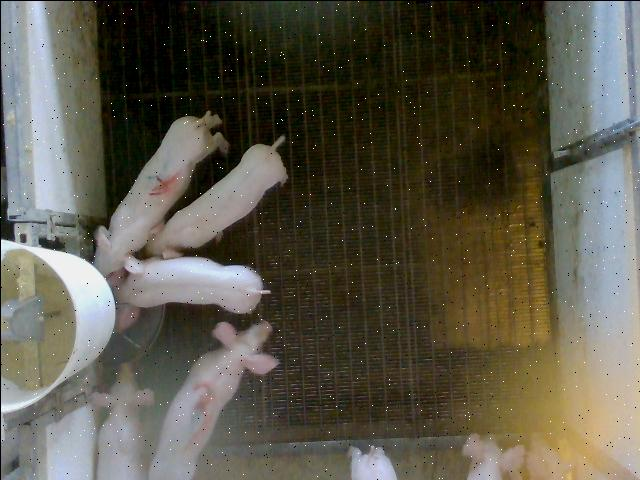pig-3: (148, 320, 278, 478)
pig-4: (94, 110, 228, 274)
